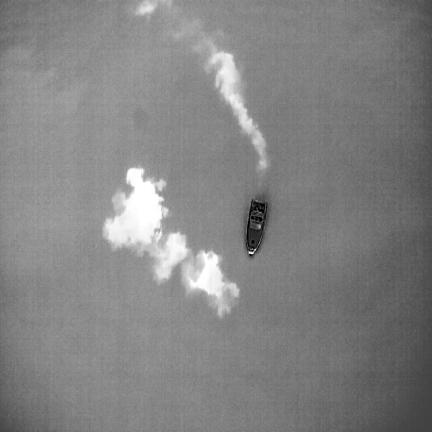flukeprints: (104, 168, 167, 252), (182, 251, 239, 316), (153, 233, 188, 279)
